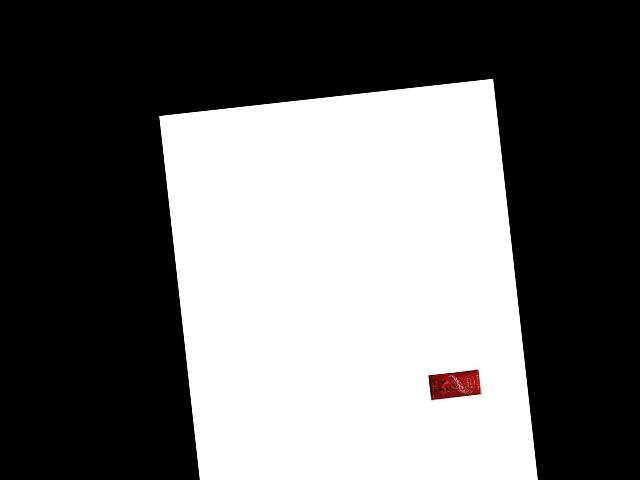chocolate: (424, 368, 482, 402)
